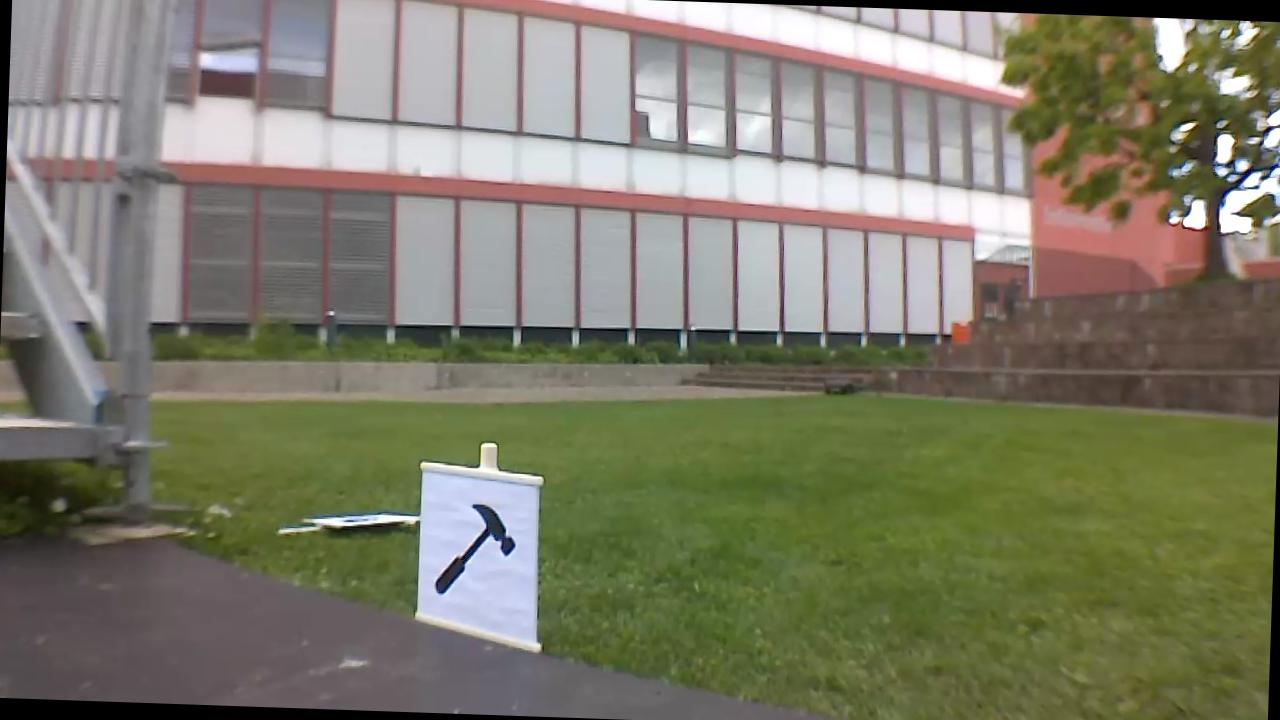hammer: (428, 493, 527, 610)
